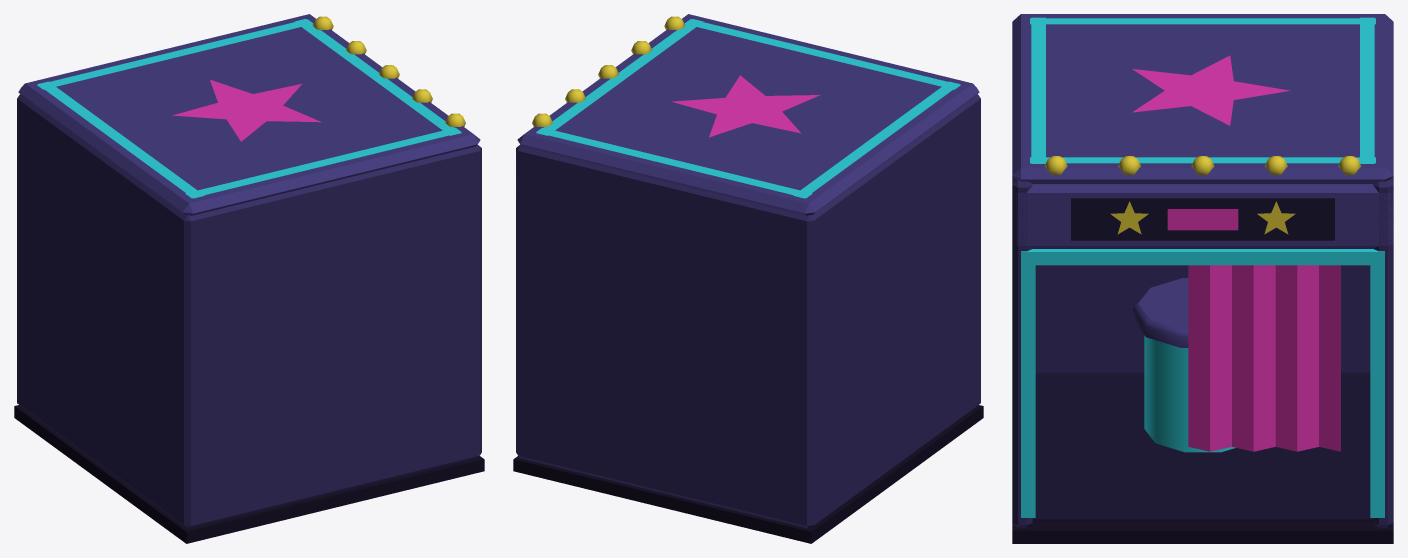
The model's file is neon-hide.glb.
The picture shows the model from 3 angles, left to right: view 1: azimuth 30°, elevation 25°; view 2: azimuth 150°, elevation 25°; view 3: azimuth 270°, elevation 25°; orthographic projection. The views are drawn at different scales.
Parts seen in each view (by area): view 1: neon-hide; view 2: neon-hide; view 3: neon-hide.
Part boxes in pixels (x1,y1,x2,y2): neon-hide: (14,14,484,543); neon-hide: (513,14,983,543); neon-hide: (1012,14,1393,543).
Bounding box in the file's own units: 1.31 × 1.44 × 1.3.
